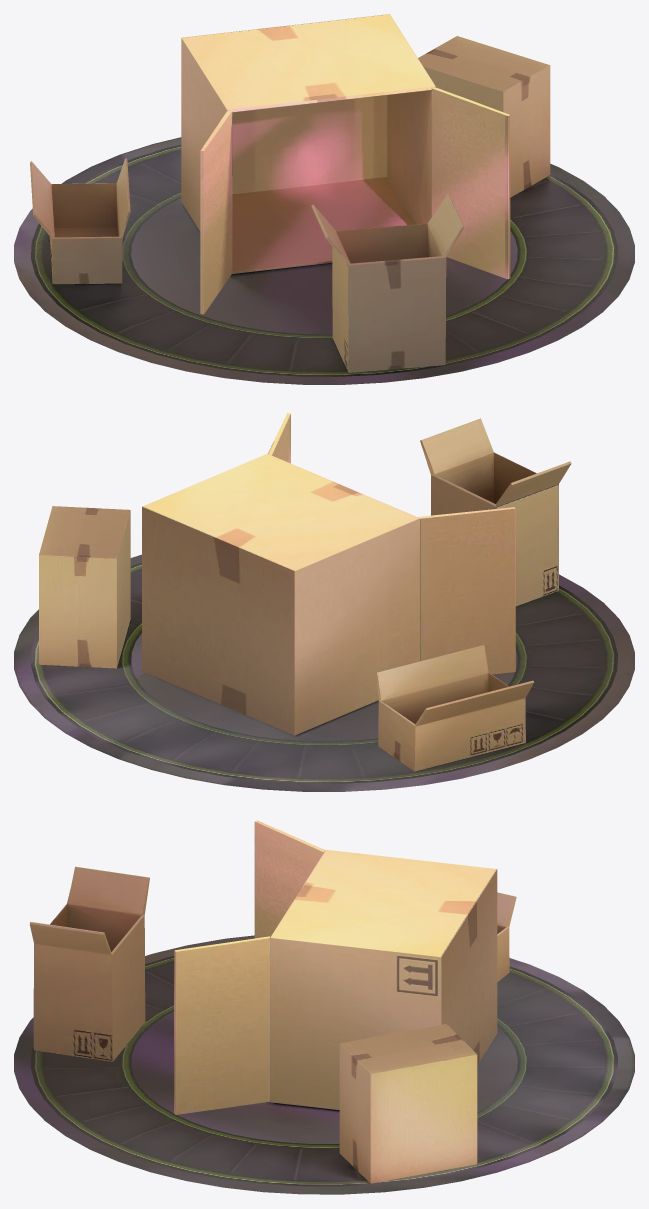
Rendered from minigame_boxes.glb.
3 renders of one model, top to bottom at view 1: azimuth 30°, elevation 25°; view 2: azimuth 150°, elevation 25°; view 3: azimuth 270°, elevation 25°, orthographic.
Parts seen in each view (by area): view 1: Decoration.boxes.ring_Baked, Decoration.box_Baked, Decoration.box.floor_Baked, Decoration.boxflap.right_Baked, Decoration.boxflap.left_Baked; view 2: Decoration.boxes.ring_Baked, Decoration.box_Baked, Decoration.box.floor_Baked, Decoration.boxflap.left_Baked, Decoration.boxflap.right_Baked; view 3: Decoration.boxes.ring_Baked, Decoration.box_Baked, Decoration.box.floor_Baked, Decoration.boxflap.right_Baked, Decoration.boxflap.left_Baked.
Part boxes in pixels (x1=…): Decoration.boxes.ring_Baked: x1=30, y1=36, x2=617, y2=376; Decoration.box_Baked: x1=181, y1=14, x2=435, y2=273; Decoration.box.floor_Baked: x1=14, y1=137, x2=634, y2=384; Decoration.boxflap.right_Baked: x1=431, y1=87, x2=510, y2=279; Decoration.boxflap.left_Baked: x1=200, y1=110, x2=232, y2=314; Decoration.boxes.ring_Baked: x1=31, y1=418, x2=617, y2=783; Decoration.box_Baked: x1=142, y1=454, x2=419, y2=735; Decoration.box.floor_Baked: x1=14, y1=554, x2=634, y2=791; Decoration.boxflap.left_Baked: x1=418, y1=507, x2=515, y2=674; Decoration.boxflap.right_Baked: x1=268, y1=413, x2=290, y2=463; Decoration.boxes.ring_Baked: x1=29, y1=866, x2=617, y2=1186; Decoration.box_Baked: x1=270, y1=849, x2=497, y2=1109; Decoration.box.floor_Baked: x1=14, y1=935, x2=634, y2=1194; Decoration.boxflap.right_Baked: x1=174, y1=936, x2=269, y2=1114; Decoration.boxflap.left_Baked: x1=254, y1=820, x2=325, y2=938.
Bounding box in the file's own units: 0.1153 × 0.0341 × 0.1153.
Materials: 2 (2 with a texture image).
